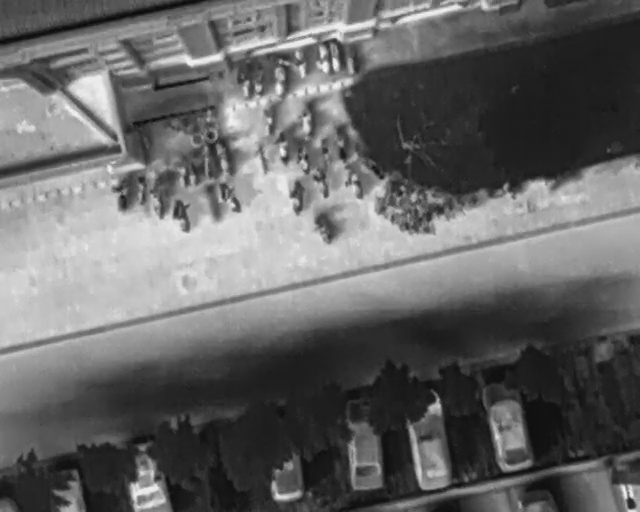Bicycle: (211, 136, 236, 179), (218, 178, 243, 215), (313, 212, 337, 248), (311, 167, 332, 201), (293, 145, 315, 177), (253, 143, 274, 175), (173, 198, 191, 233), (289, 180, 305, 216), (113, 181, 128, 211), (151, 188, 165, 220), (277, 128, 288, 163), (275, 66, 286, 98), (297, 48, 307, 83), (319, 41, 330, 72), (347, 45, 358, 76), (302, 102, 312, 134), (265, 104, 273, 136), (332, 40, 340, 72), (355, 172, 364, 200), (342, 161, 351, 188), (137, 175, 145, 205), (187, 163, 197, 187), (241, 71, 250, 97), (177, 163, 187, 186), (254, 65, 262, 93), (322, 139, 330, 167)
Car: (401, 386, 458, 492), (480, 380, 536, 475), (260, 413, 308, 503), (347, 399, 385, 489), (122, 444, 171, 512), (41, 465, 83, 510)
